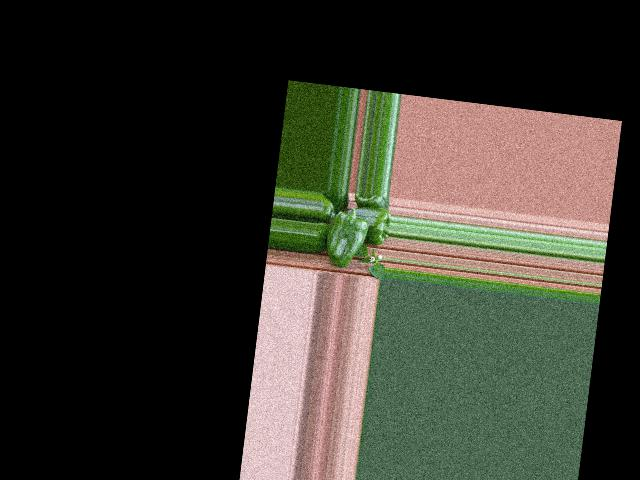bell_pepper: (318, 191, 339, 219)
